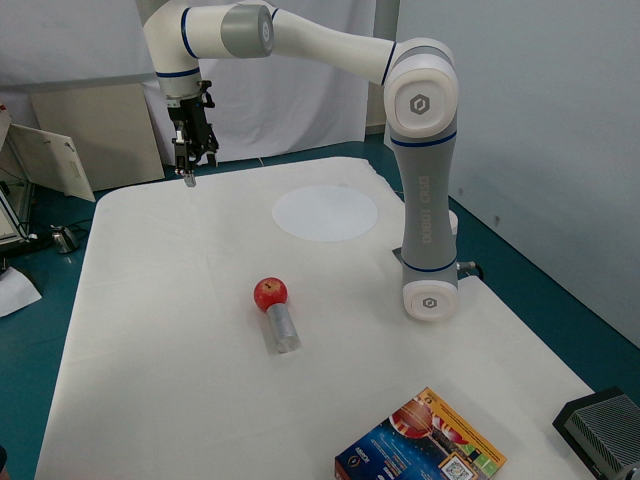apple: (250, 275, 292, 312)
metalROD: (259, 299, 303, 357)
